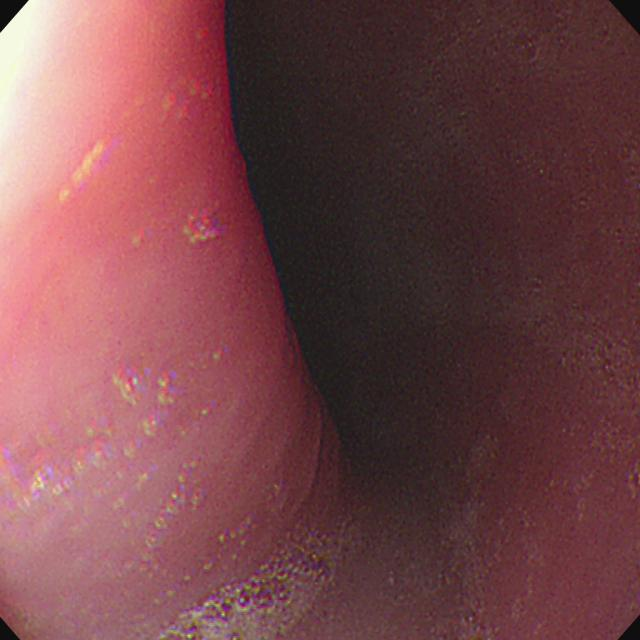T: (143, 531, 345, 640)
